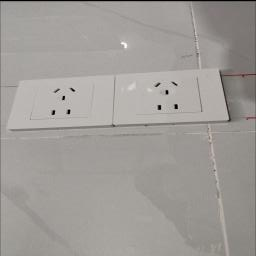outlet: (113, 69, 240, 129), (4, 76, 116, 130)
